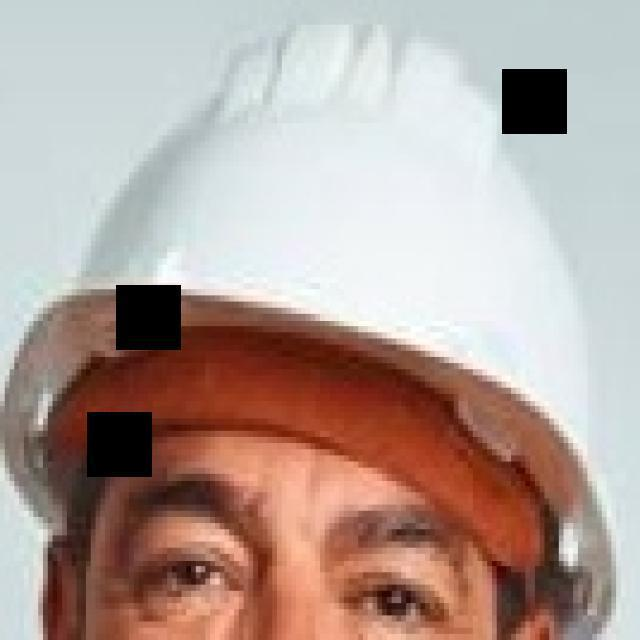blue helmet: (1, 11, 620, 640)
